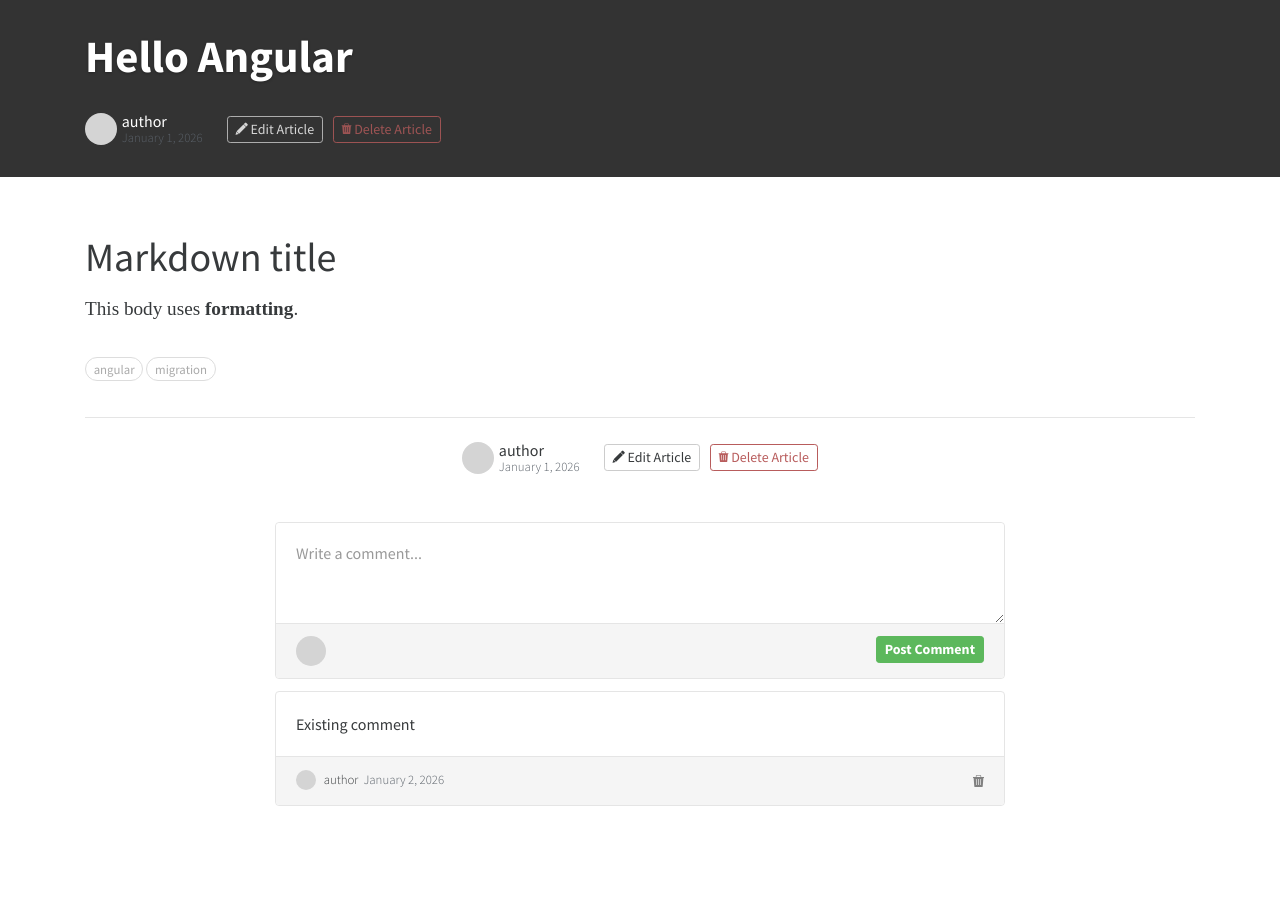
ArticleComponent › adds a comment for authenticated users and prepends it to the comment list
In the text box with placeholder "Write a comment...": (640,573) left=276, top=523, right=1004, bottom=623, type "New comment"
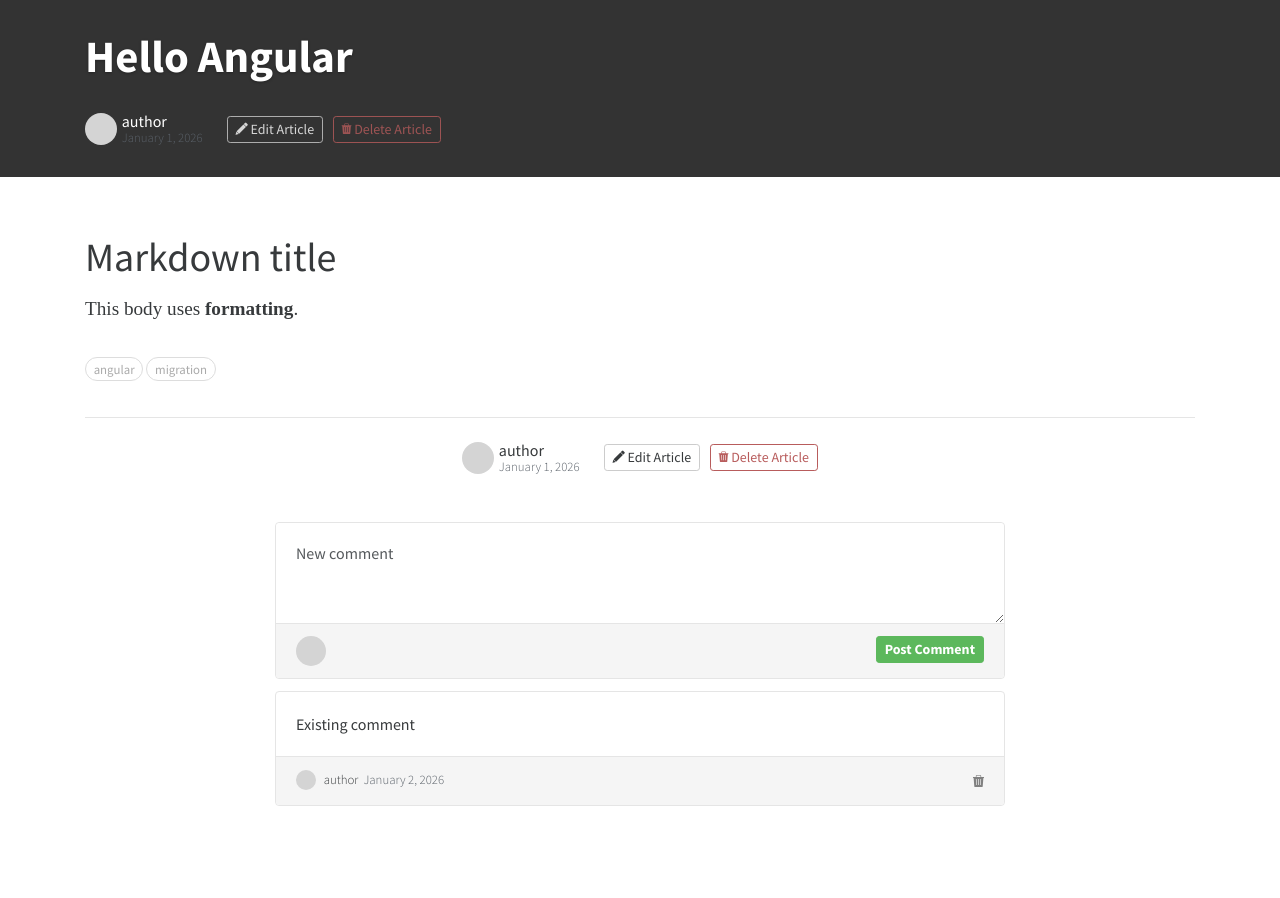
Submit the form with class "comment-form", box left=275, top=522, right=1005, bottom=679
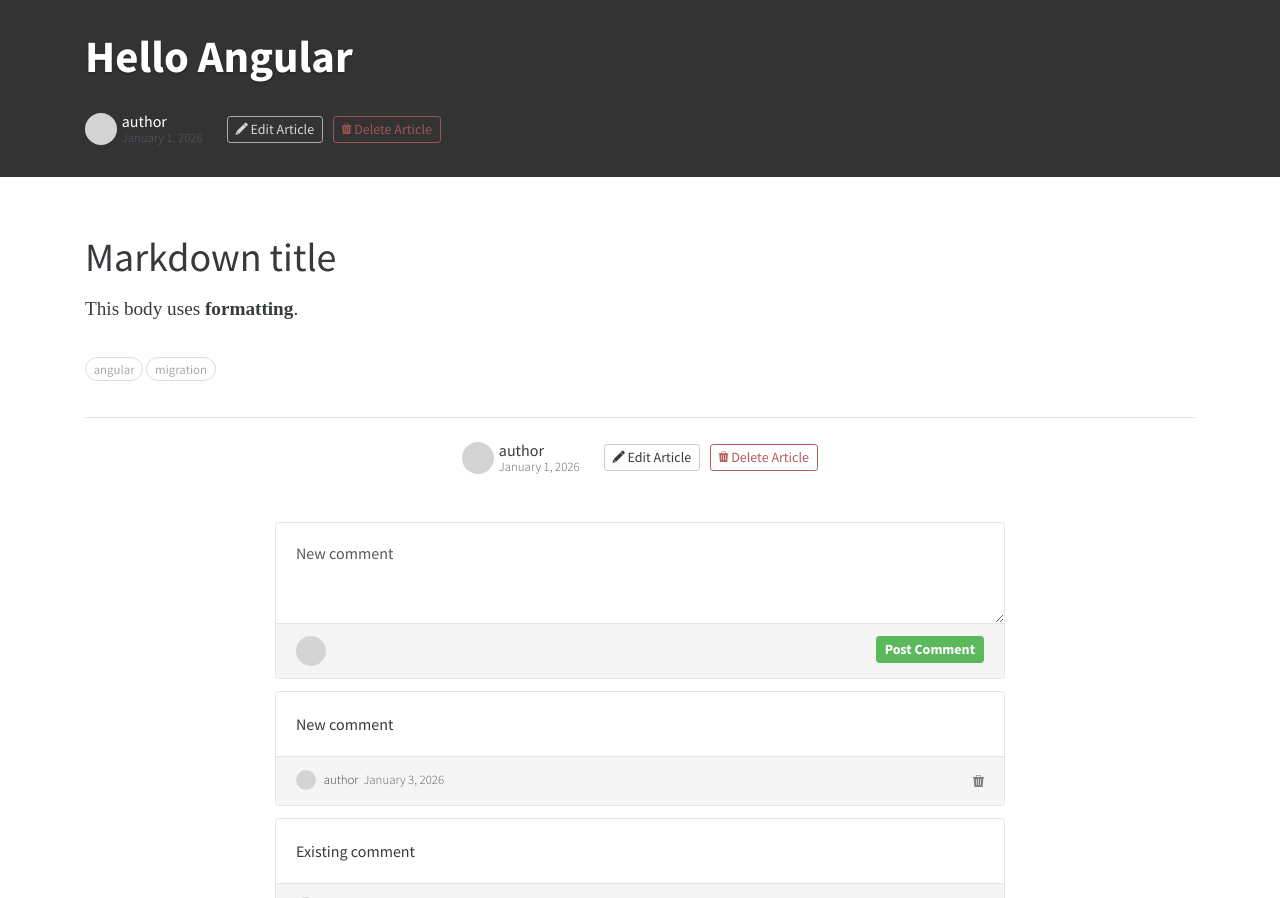
Expected: the text with class "card-text" reads "New comment", left=296, top=714, right=393, bottom=734
